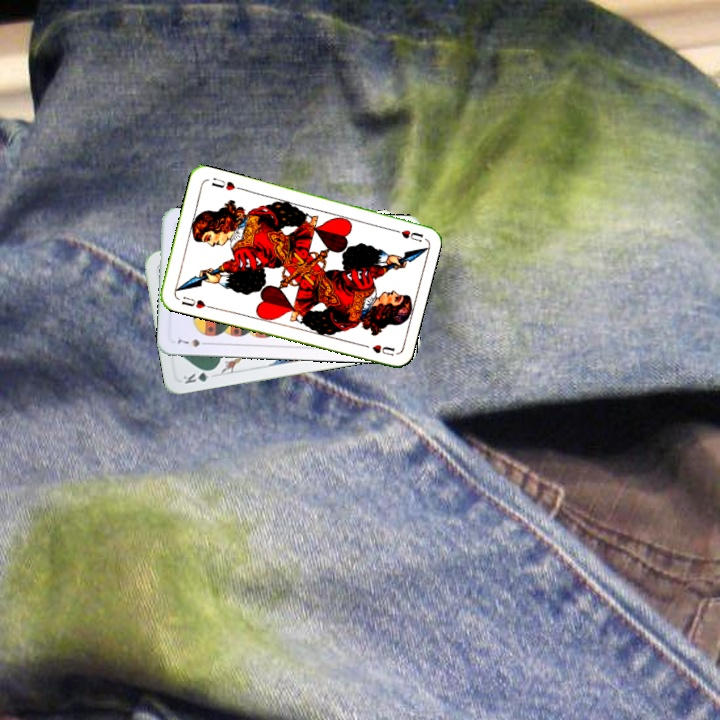GK: (179, 365, 218, 386)
HU: (386, 224, 426, 244), (178, 292, 213, 311)
S7: (173, 335, 212, 349)
